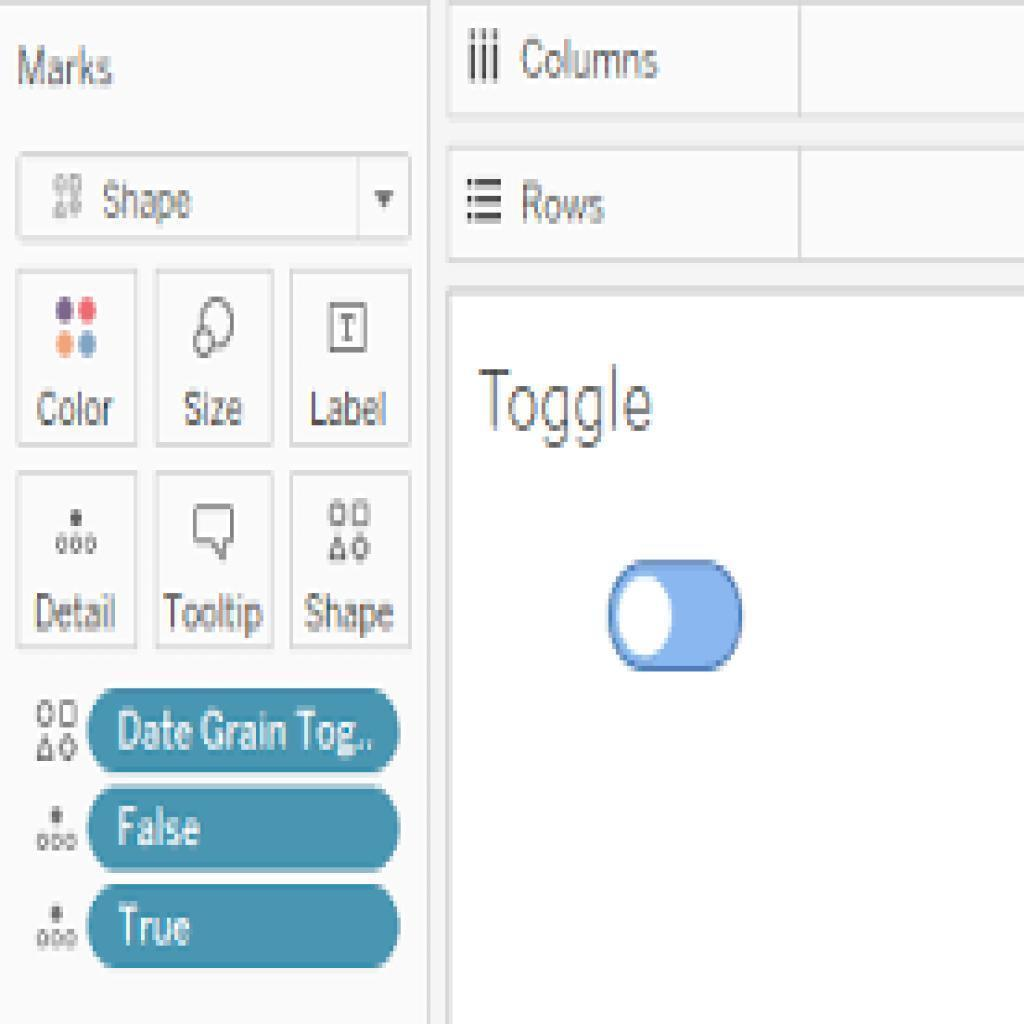button: (86, 786, 402, 873), (87, 687, 400, 772), (84, 886, 402, 969)
dropdown: (16, 155, 407, 241)
switch: (610, 559, 742, 674)
